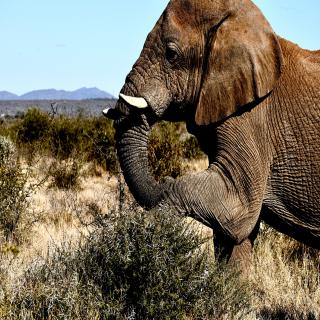Elephant: (102, 0, 320, 291)
